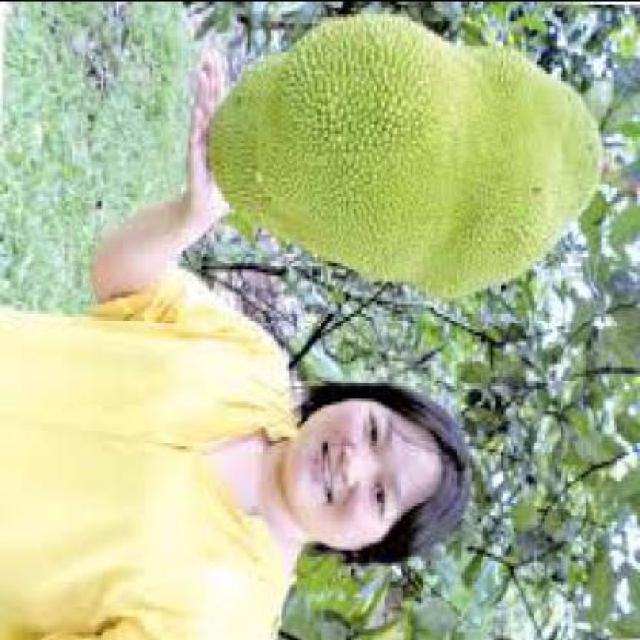BIODEGRADABLE: (208, 9, 603, 302)
